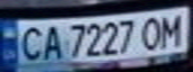2: (100, 18, 124, 56), (84, 19, 106, 57)
7: (63, 20, 87, 58), (115, 16, 139, 54)
A: (39, 22, 66, 61)
C: (15, 24, 48, 62)
M: (157, 11, 187, 48)
O: (136, 13, 166, 51)
